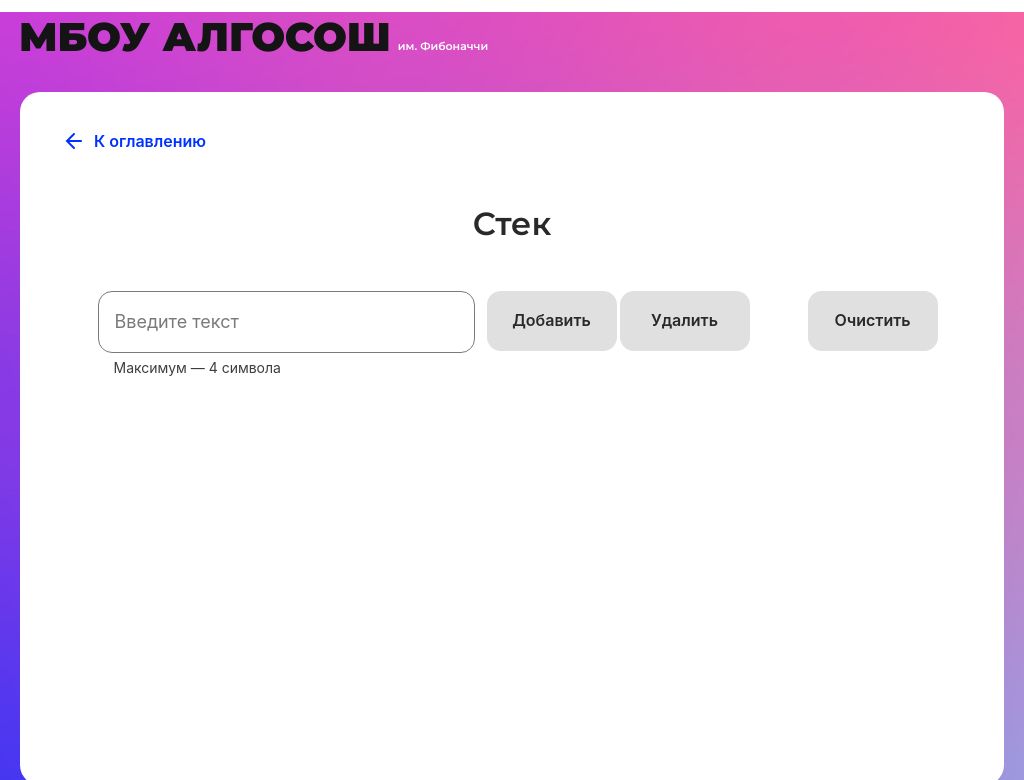
Stack › correct clear contain
Type "test" into the field with placeholder "Введите текст" at (287,322), box left=98, top=291, right=475, bottom=353
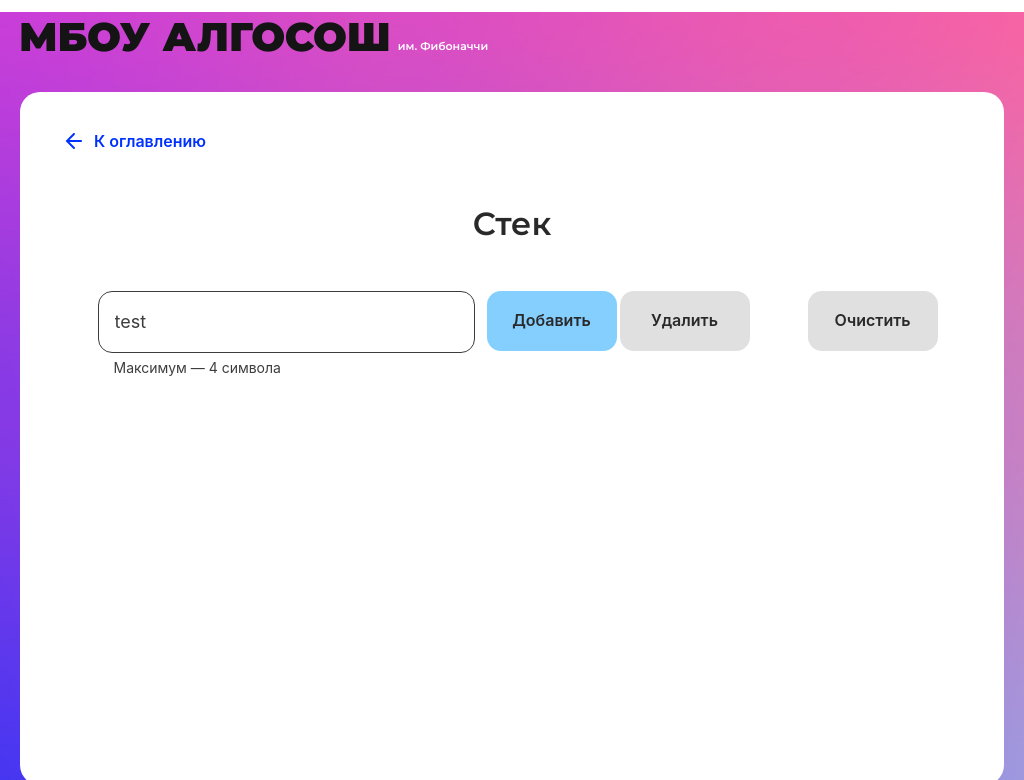
Click the button with test id "btnAddStack" at (552,321), box left=487, top=291, right=617, bottom=351
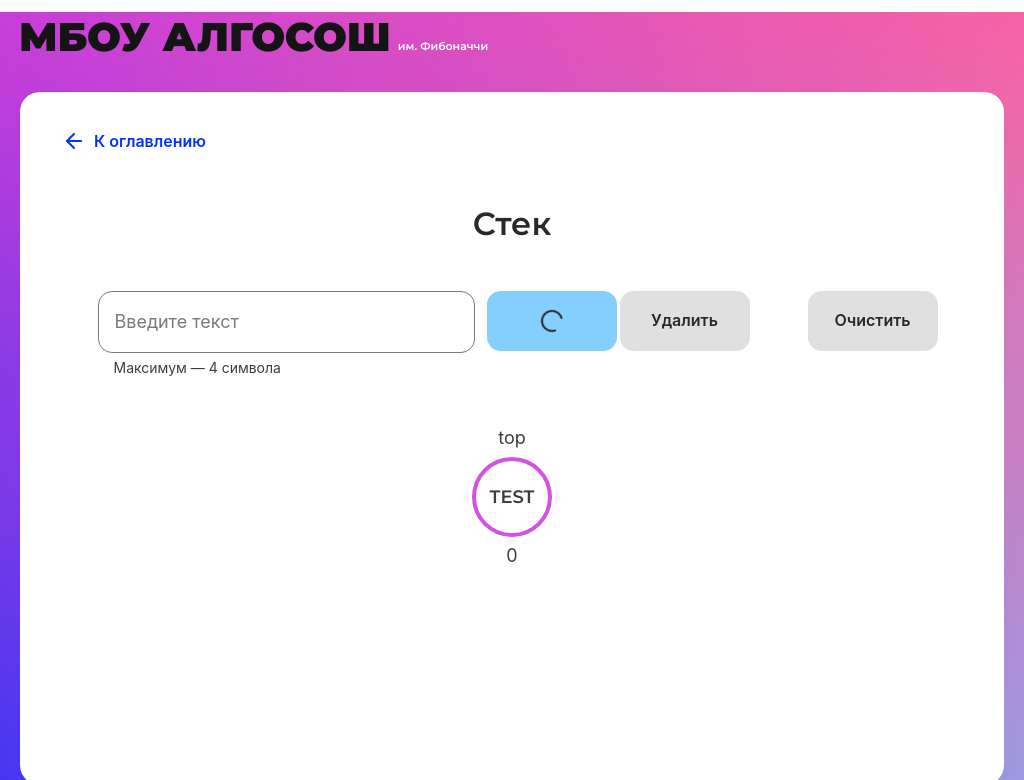
Type "test" into the field with placeholder "Введите текст" at (287,322), box left=98, top=291, right=475, bottom=353
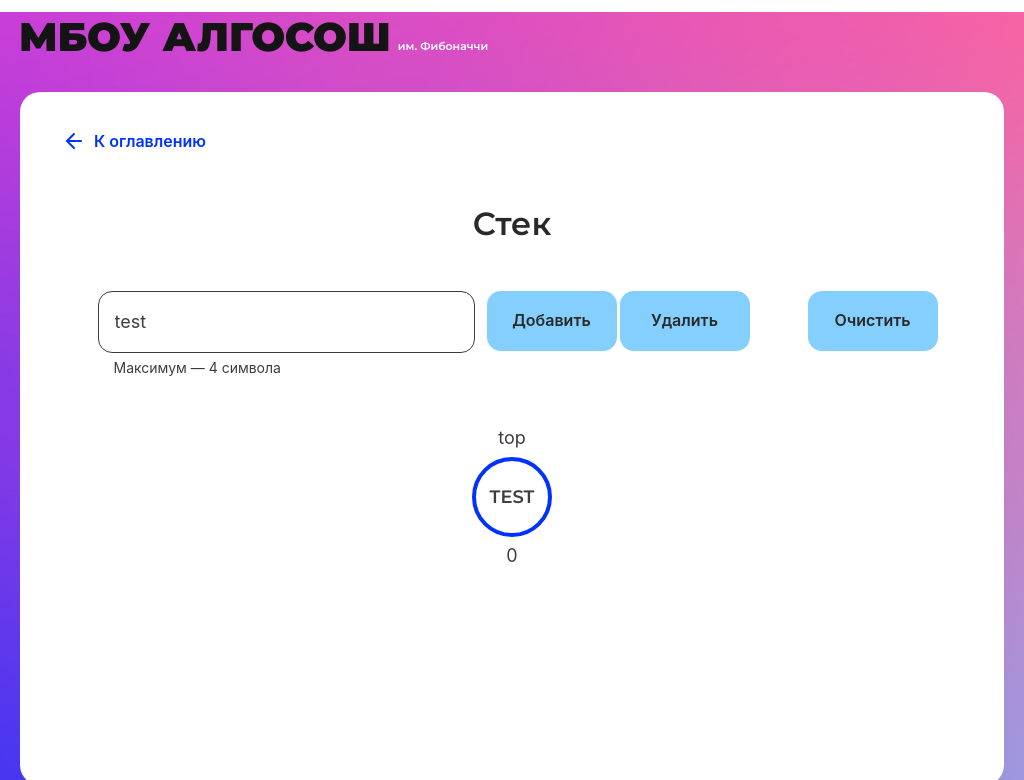
Click the button with test id "btnAddStack" at (552,321), box left=487, top=291, right=617, bottom=351
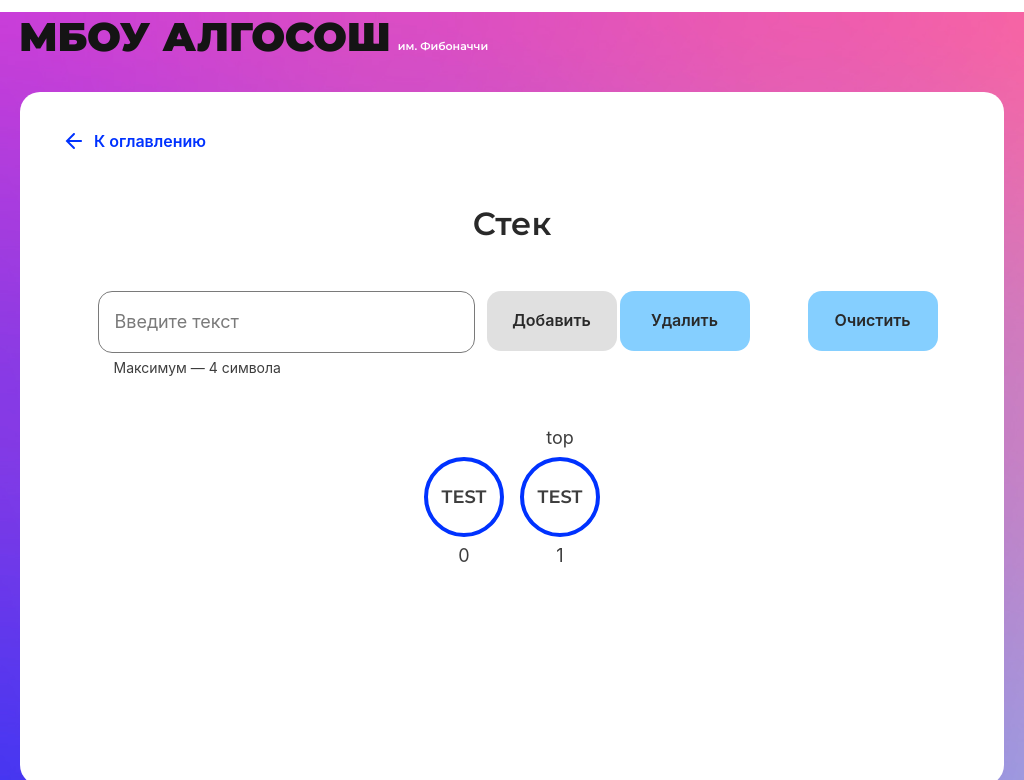
Click the button with test id "btnClearStack" at (873,321), box left=808, top=291, right=938, bottom=351
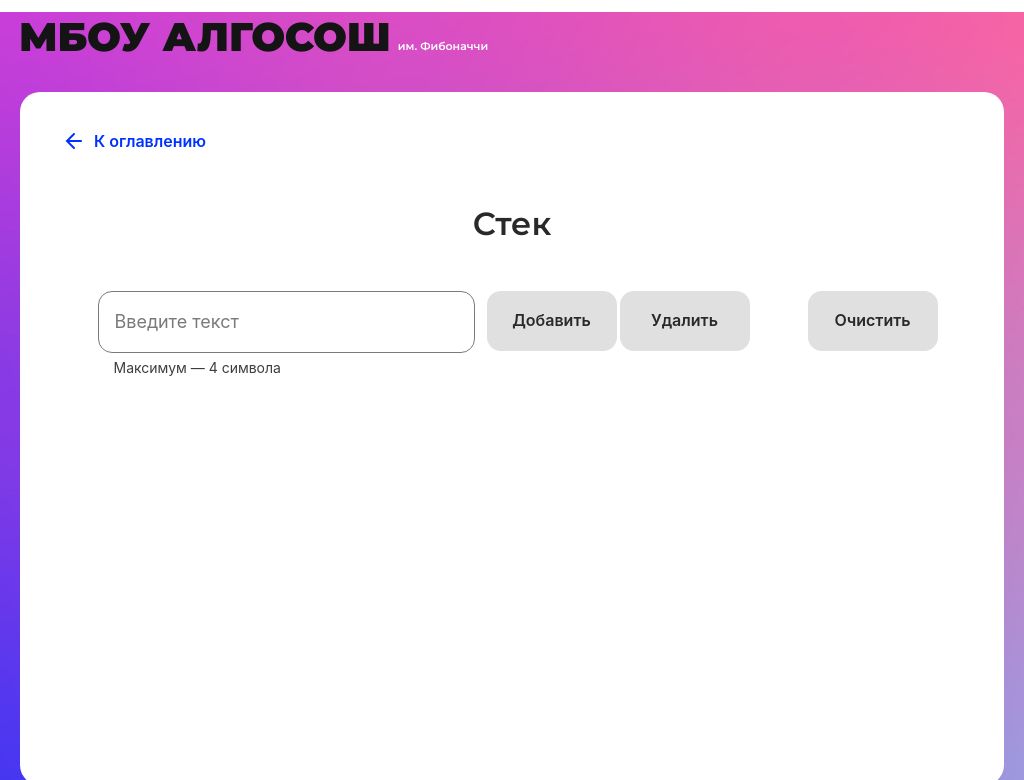
Check: no elements with test id "circle" are shown
